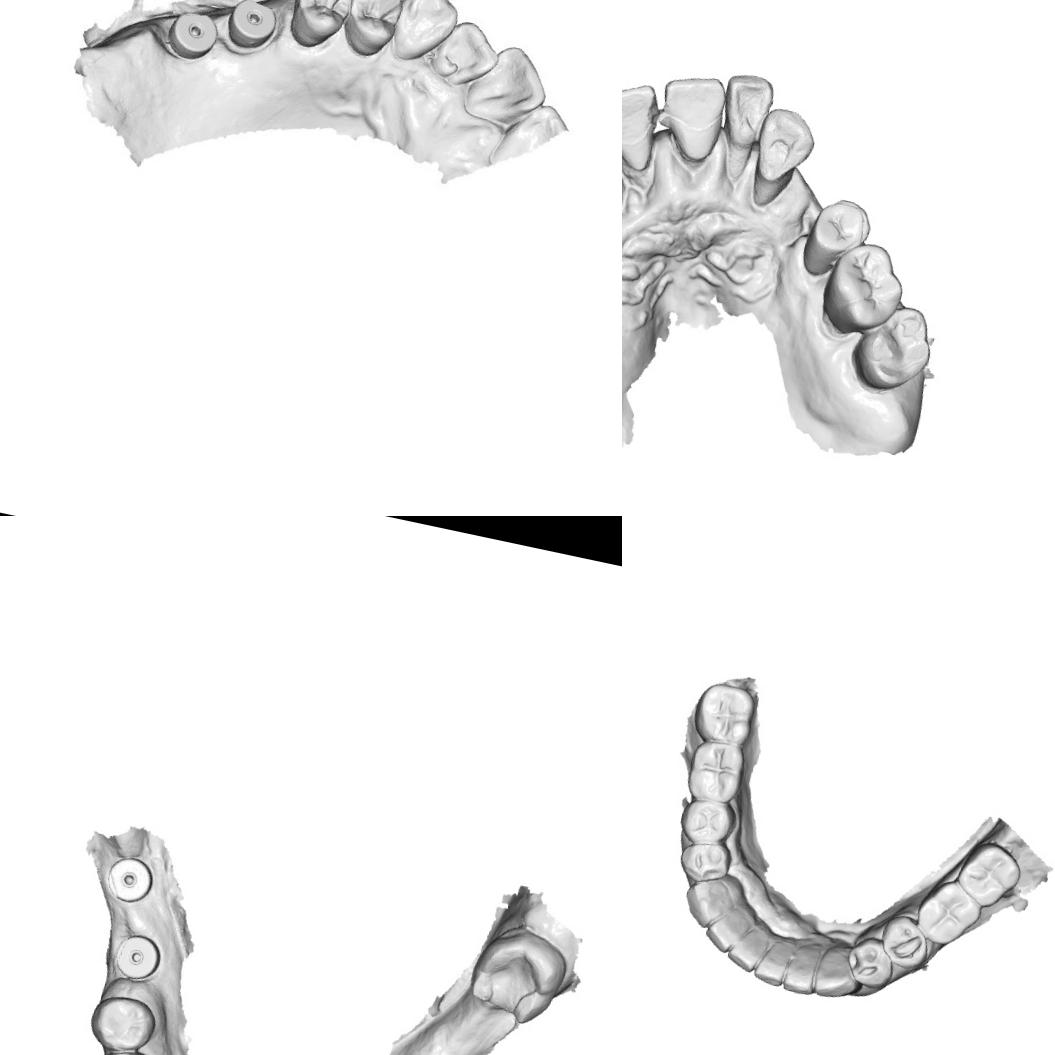canine: (747, 102, 822, 192), (386, 0, 460, 71), (678, 871, 739, 935), (811, 942, 862, 1004)
implant: (158, 1, 222, 60), (102, 853, 162, 913), (224, 0, 282, 55), (110, 926, 164, 984)
incisor: (464, 43, 550, 128), (651, 66, 729, 144), (713, 65, 782, 150), (432, 20, 503, 93), (622, 73, 663, 154), (777, 936, 827, 998), (700, 902, 753, 958), (723, 920, 772, 976), (750, 936, 792, 990)
molar: (461, 920, 572, 1032), (814, 234, 912, 342), (846, 296, 941, 400), (950, 834, 1028, 916), (909, 874, 988, 954), (688, 676, 762, 753), (682, 734, 754, 810)
premolar: (804, 191, 874, 268), (85, 989, 160, 1055), (874, 910, 935, 975), (676, 792, 741, 852), (840, 930, 900, 994), (674, 836, 737, 890), (284, 0, 355, 41), (342, 0, 401, 47), (85, 1041, 161, 1055)
